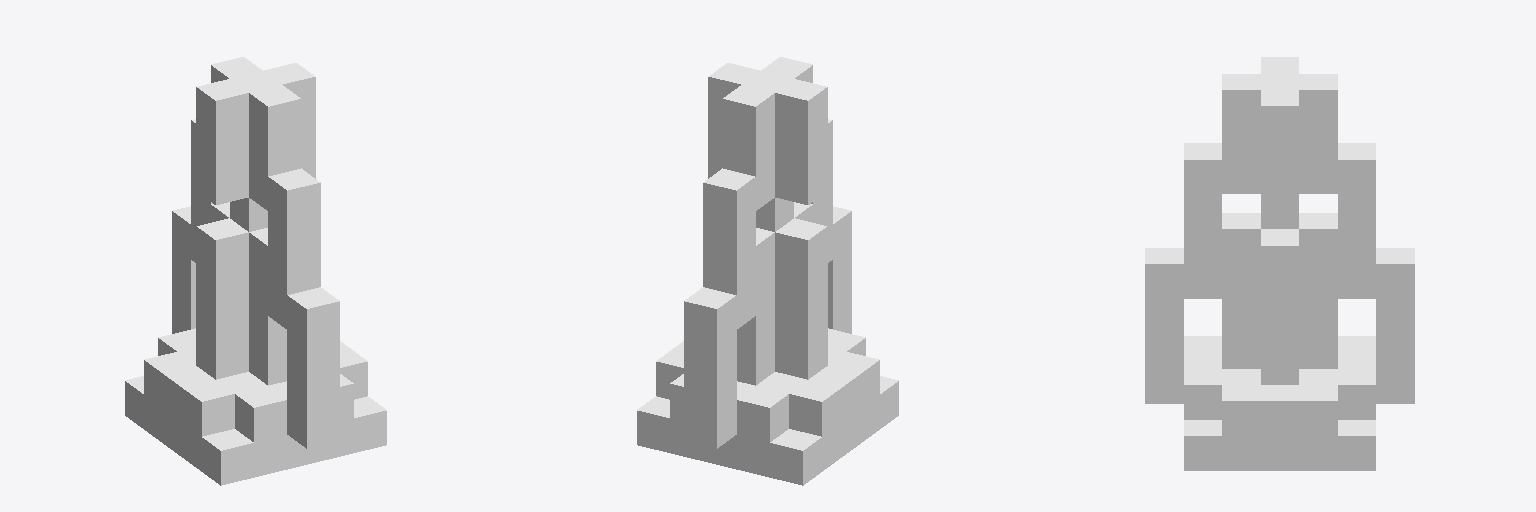
File: lvl2-25.obj
The picture shows the model from 3 angles: view 1: azimuth 30°, elevation 25°; view 2: azimuth 150°, elevation 25°; view 3: azimuth 270°, elevation 25°; orthographic projection.
Parts seen in each view (by area): view 1: object 1; view 2: object 1; view 3: object 1.
Boxes of the visible parts, x1,y1,x2,y2 form: object 1: [125, 57, 386, 485]; object 1: [637, 57, 898, 485]; object 1: [1145, 57, 1414, 470].
Bounding box in the file's own units: 0.5 × 1 × 0.7.